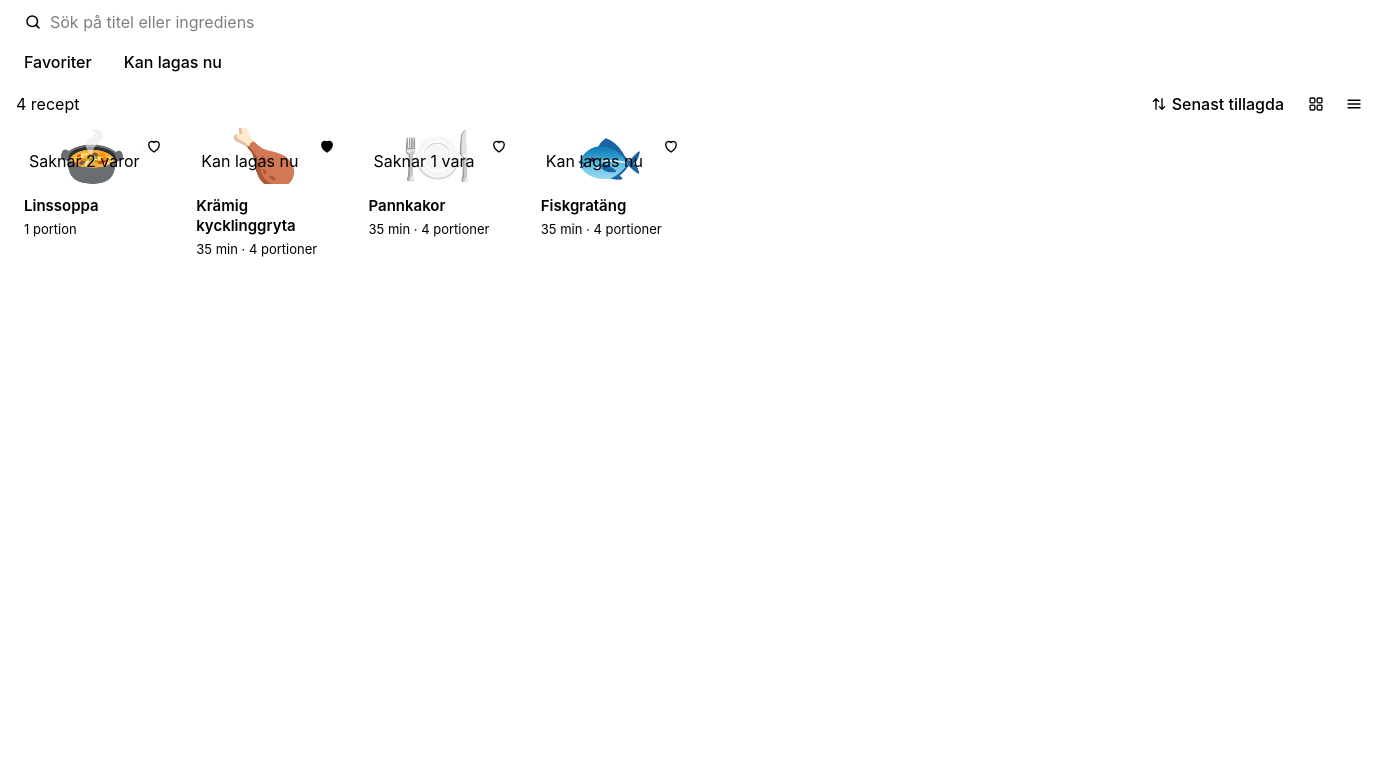
Test: Library › keeps the AI suggestions while the pills change
Click the button "Kan lagas nu".
click(173, 62)  # box [112,46,234,78]
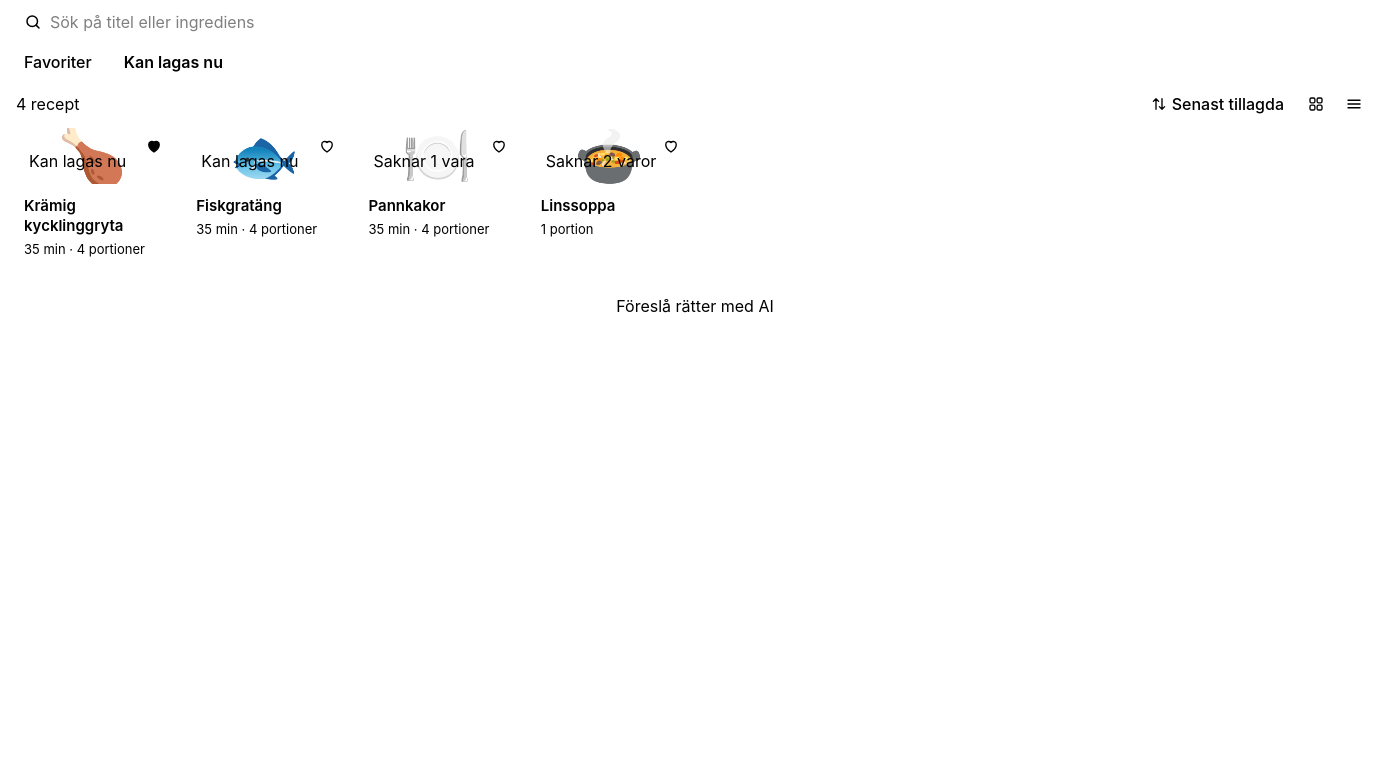
Click the button "Föreslå rätter med AI".
click(695, 306)  # box [12,294,1378,318]
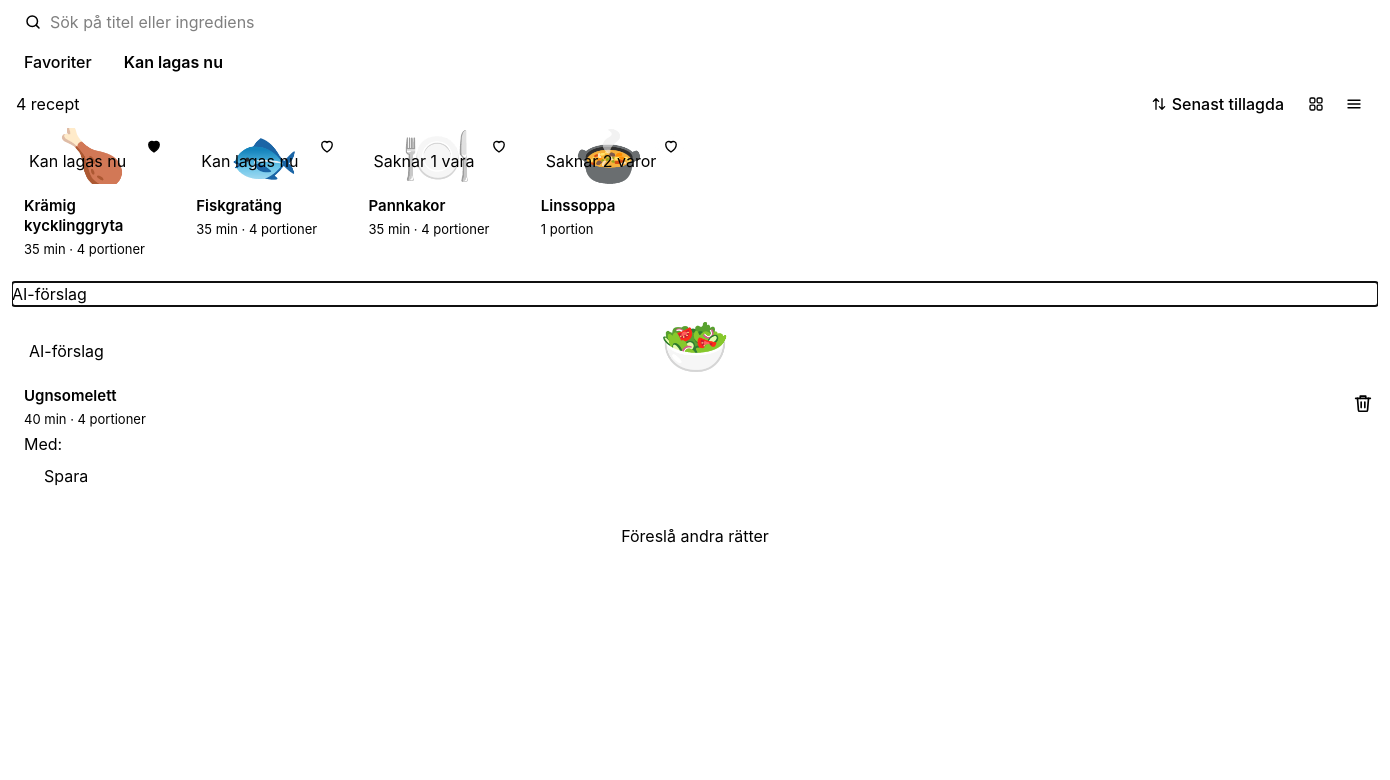
expect the heading "Ugnsomelett" is shown: met, box [24,386,117,405]
Click the button "Kan lagas nu".
click(173, 62)  # box [112,46,235,78]
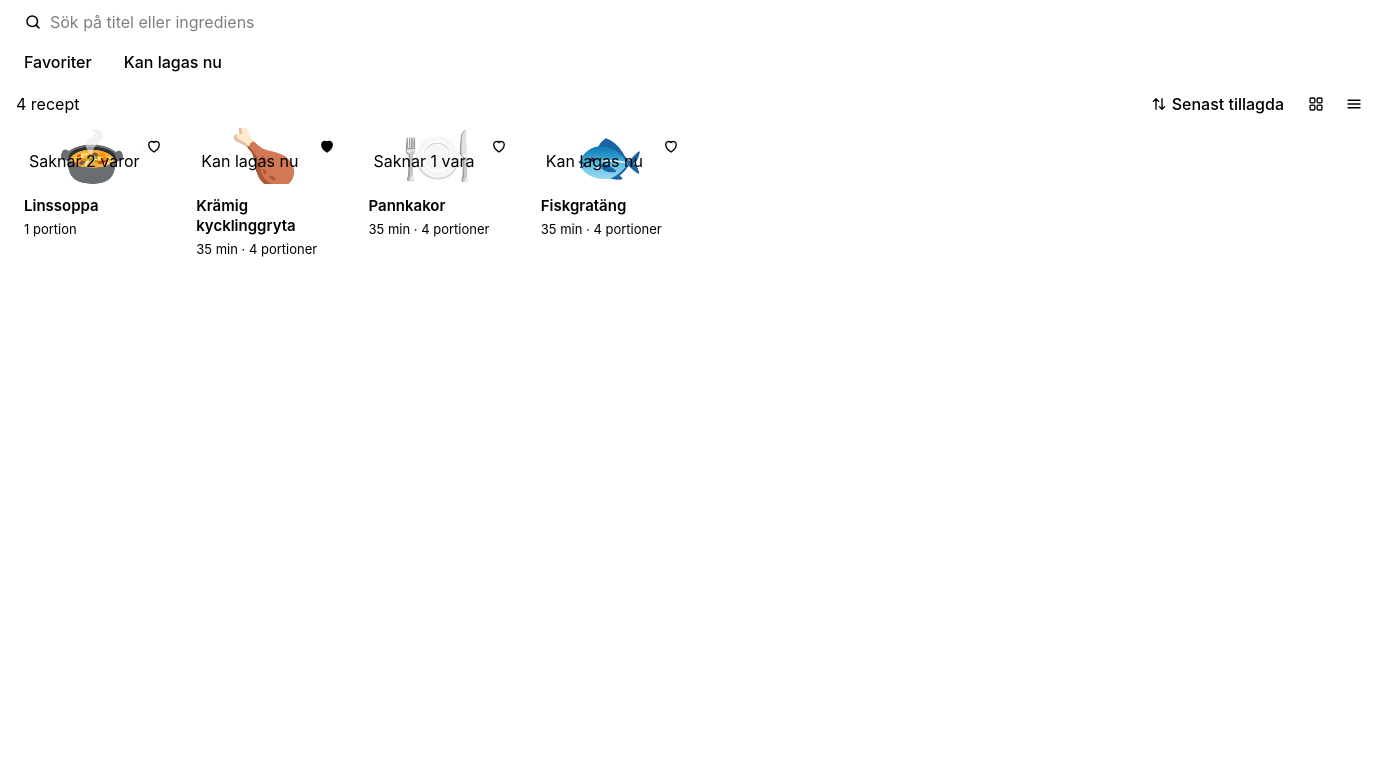
expect the heading "AI-förslag" is gone: met
Click the button "Kan lagas nu".
click(173, 62)  # box [112,46,234,78]
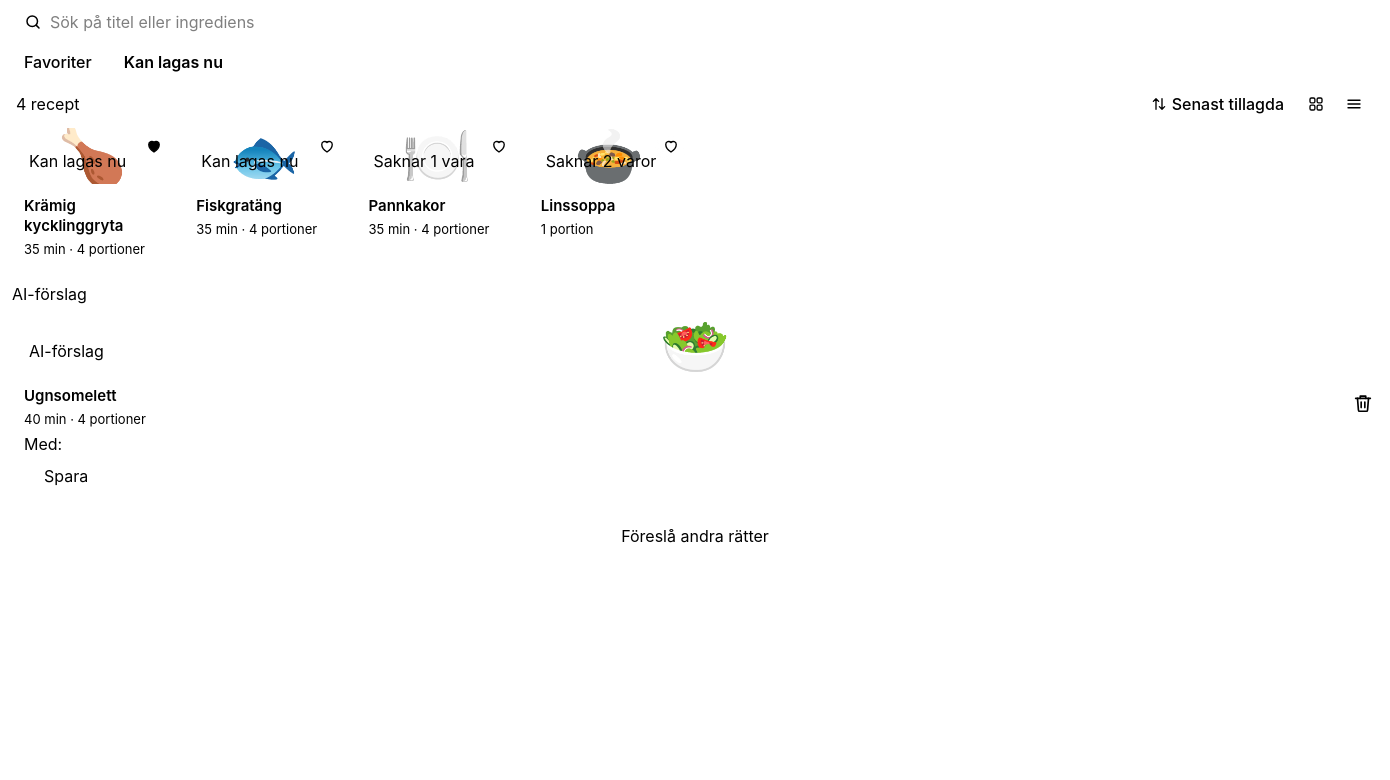
expect the text "Ugnsomelett" is not shown: met
expect the heading "Ugnsomelett" is shown: met, box [24,386,117,405]
